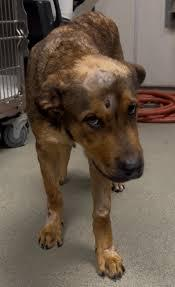infection: (44, 51, 134, 144)
